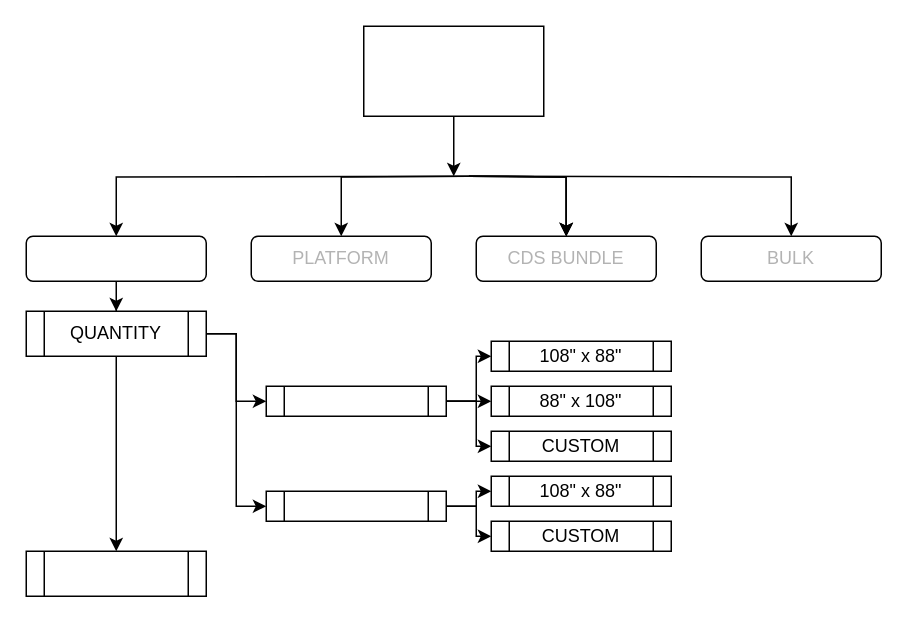
This 908x623 diagram has some shape labels left out. Here are the shapes that lost their labels. From the top down, the centre of each, then its label:
the point at 453,70: ULD
the point at 115,258: PALLET
the point at 355,400: QTY CABIN
the point at 355,505: QTY RAMP
the point at 115,573: CB ARM
